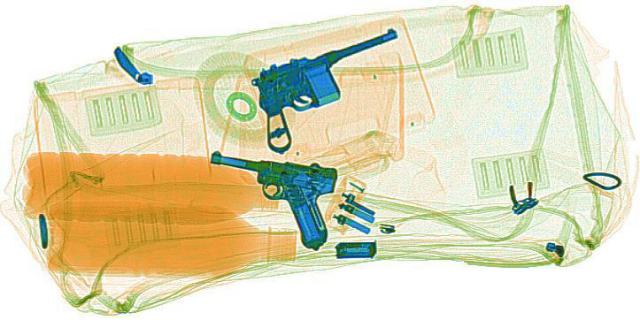Gun: (187, 28, 486, 153), (208, 145, 350, 250)
